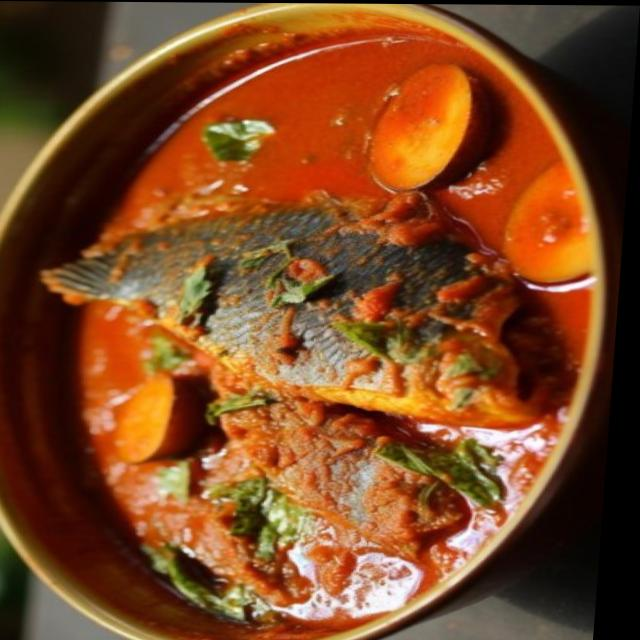FISH CURRY: (57, 29, 592, 640)
SAMBAR: (370, 63, 490, 188), (502, 167, 594, 281)
